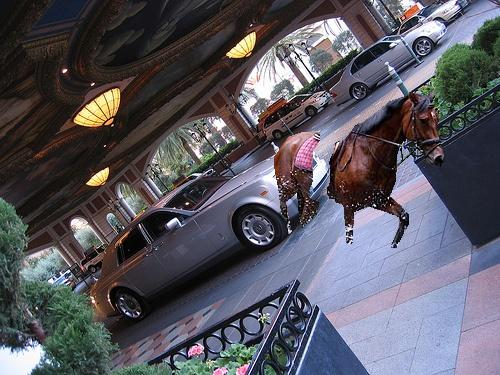tampered: (275, 91, 444, 248)
